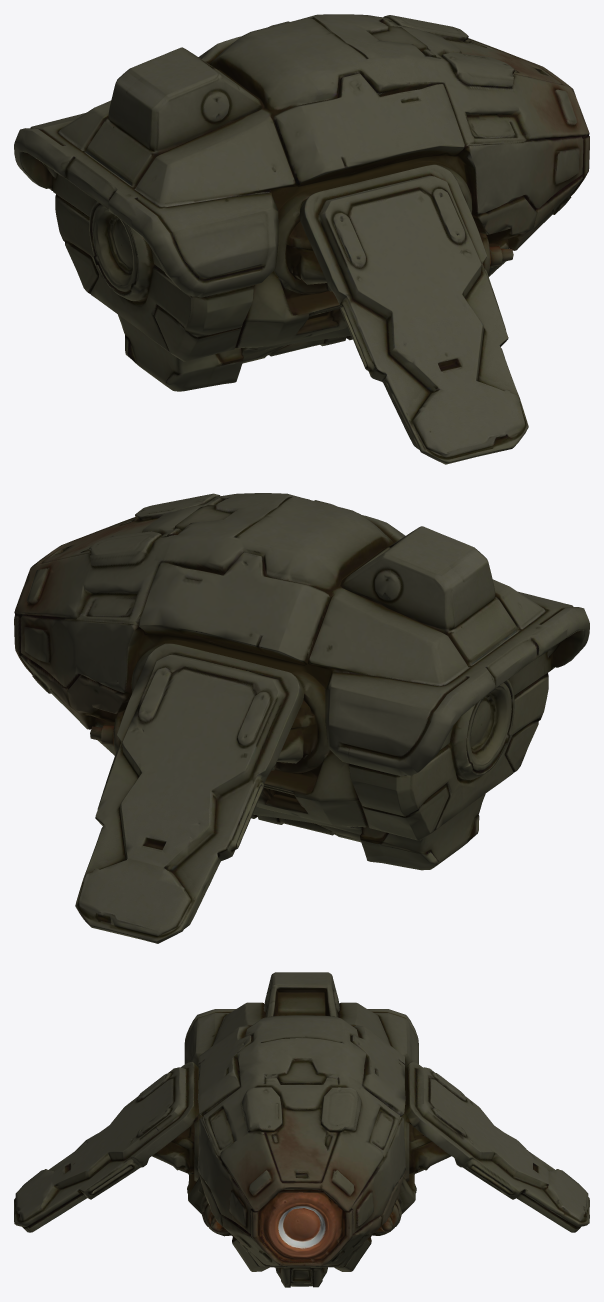
Rendered from Enemigo9.glb.
The picture shows the model from 3 angles, top to bottom: view 1: azimuth 30°, elevation 25°; view 2: azimuth 150°, elevation 25°; view 3: azimuth 270°, elevation 25°; orthographic projection. The views are drawn at different scales.
Visible parts, largest first — view 1: tripo_node_5c901379-844e-447f-8a16-302d50e2ba23; view 2: tripo_node_5c901379-844e-447f-8a16-302d50e2ba23; view 3: tripo_node_5c901379-844e-447f-8a16-302d50e2ba23.
Part boxes in pixels (box(x1,y1,x2,y2)): tripo_node_5c901379-844e-447f-8a16-302d50e2ba23: box(14, 14, 589, 464); tripo_node_5c901379-844e-447f-8a16-302d50e2ba23: box(14, 493, 589, 943); tripo_node_5c901379-844e-447f-8a16-302d50e2ba23: box(14, 972, 589, 1287).
Bounding box in the file's own units: 0.6786 × 0.4288 × 0.9785.
1 material, 1 textured.
